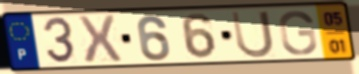3: (40, 15, 78, 67)
6: (179, 12, 217, 61), (135, 13, 172, 63)
G: (277, 9, 320, 57)
U: (228, 9, 276, 60)
X: (75, 14, 125, 66)
